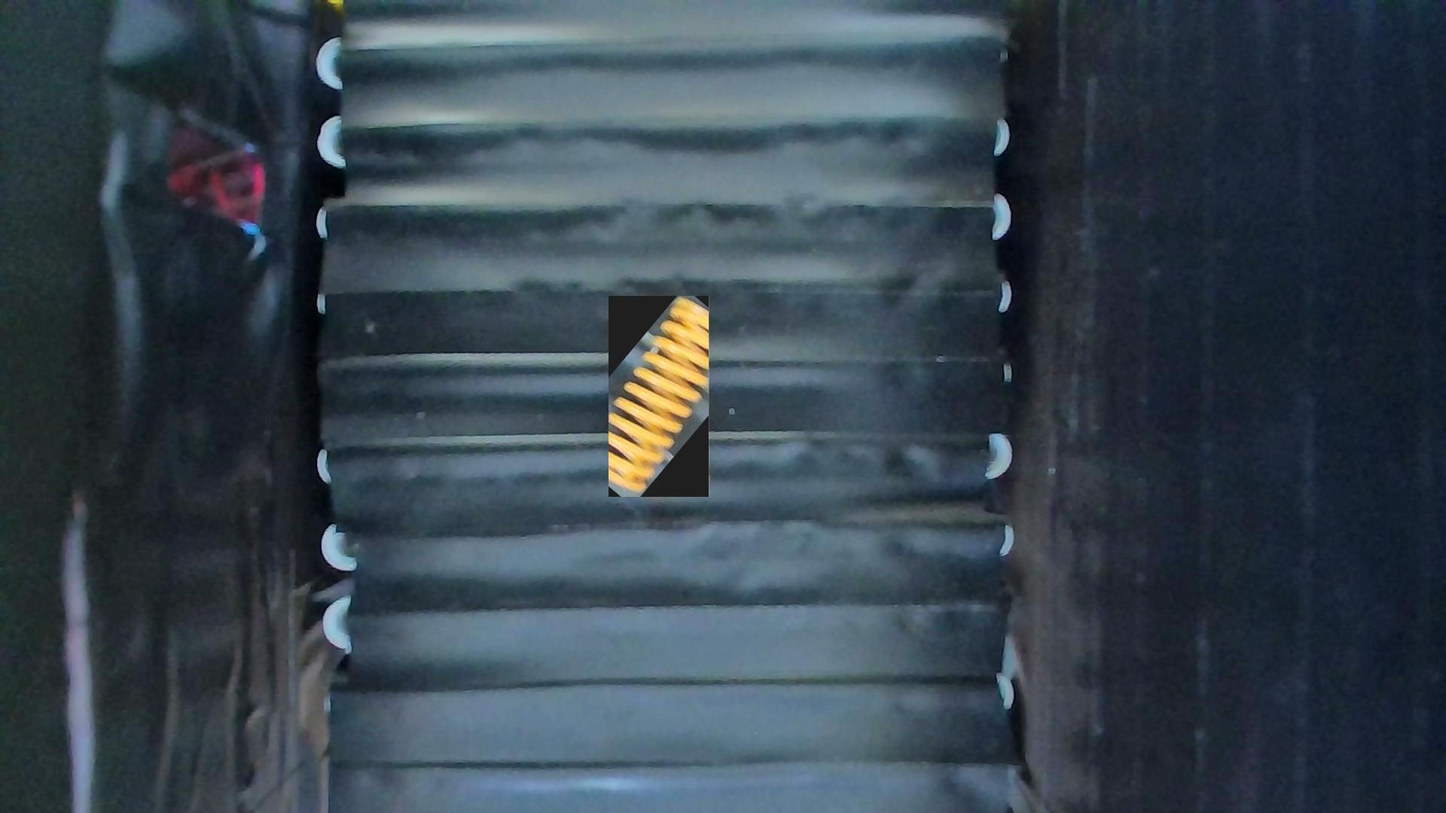spring: (609, 296, 710, 497)
